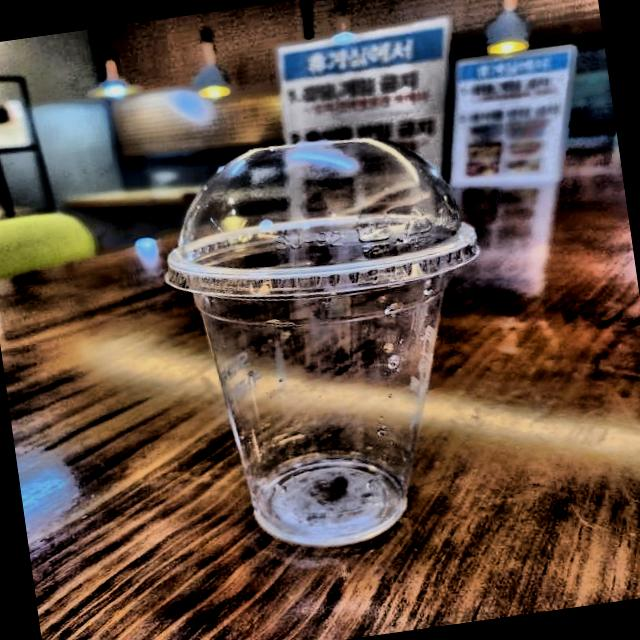plastic cup: (121, 89, 538, 597)
